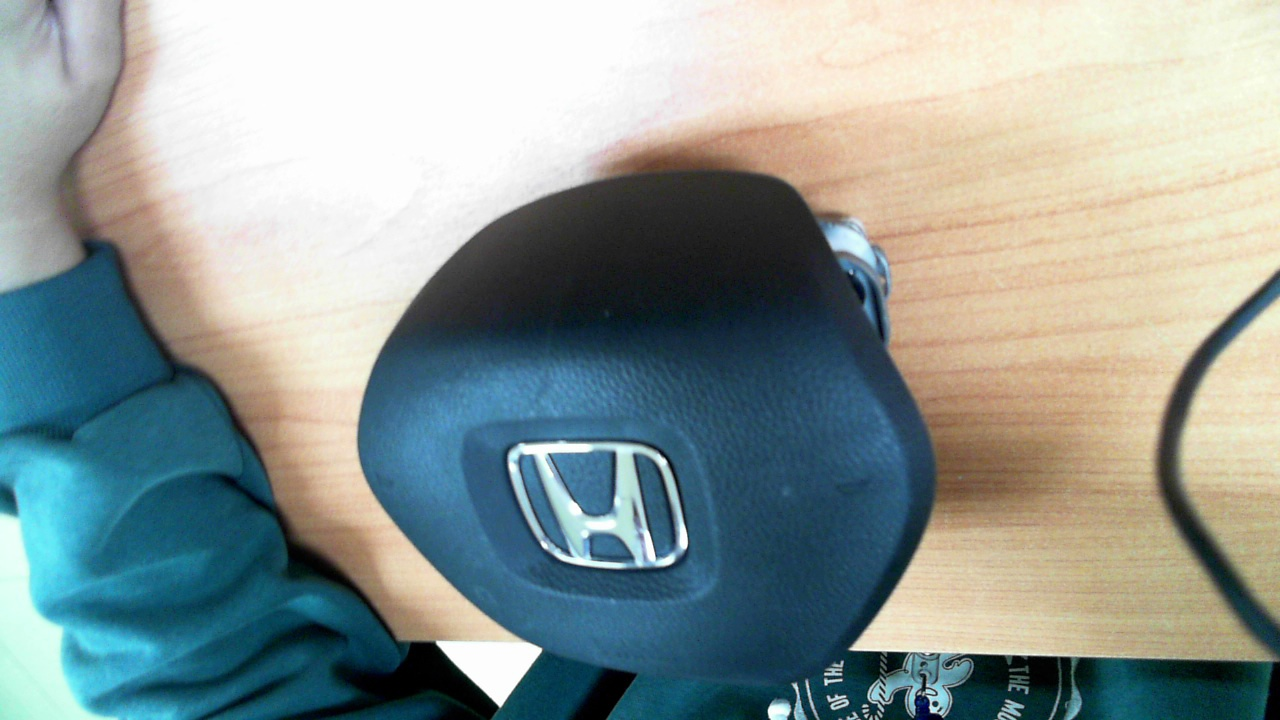Airbag: (356, 168, 937, 690)
Honda: (507, 440, 689, 570)
